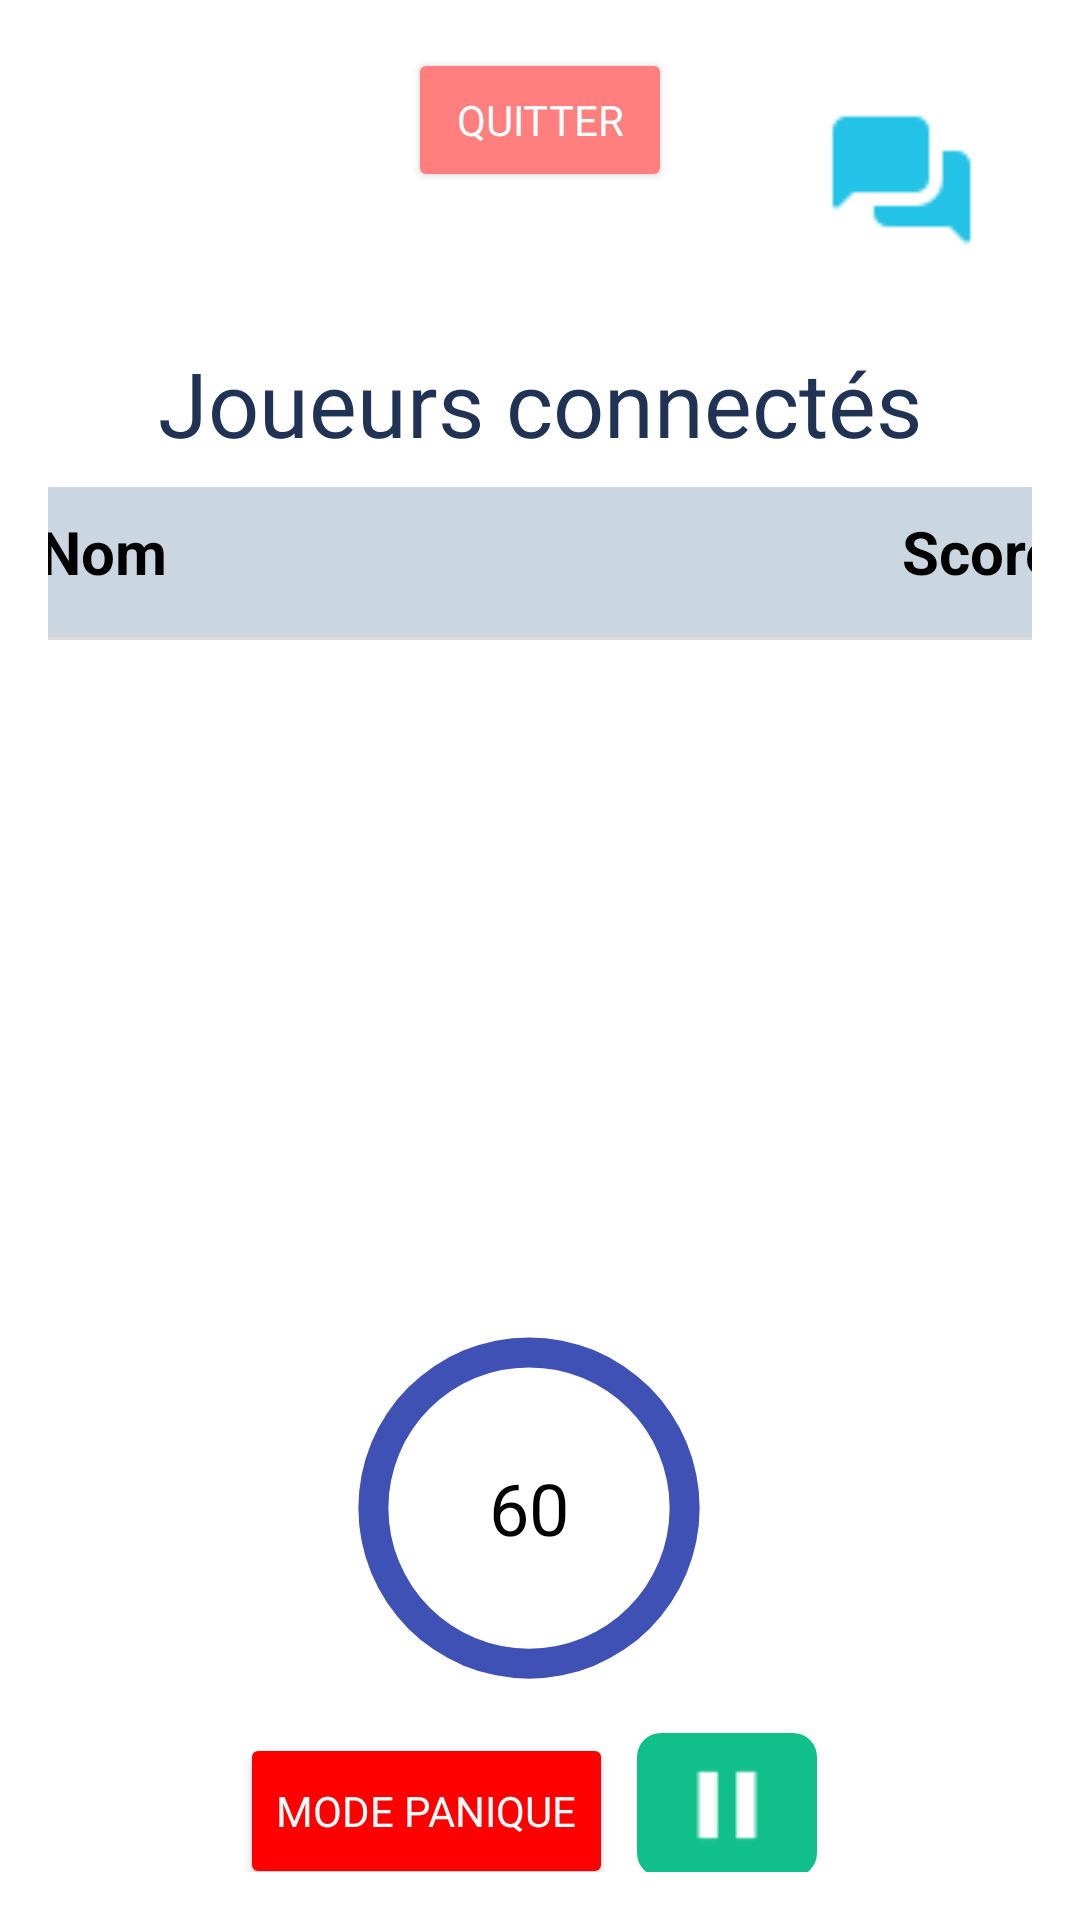

Locate icon controls on the screen. Image size 1080w x 1920h, boxes as (x1, y1, x2, y2).
pause: (637, 1733, 817, 1872)
use chat: (831, 115, 972, 245)
